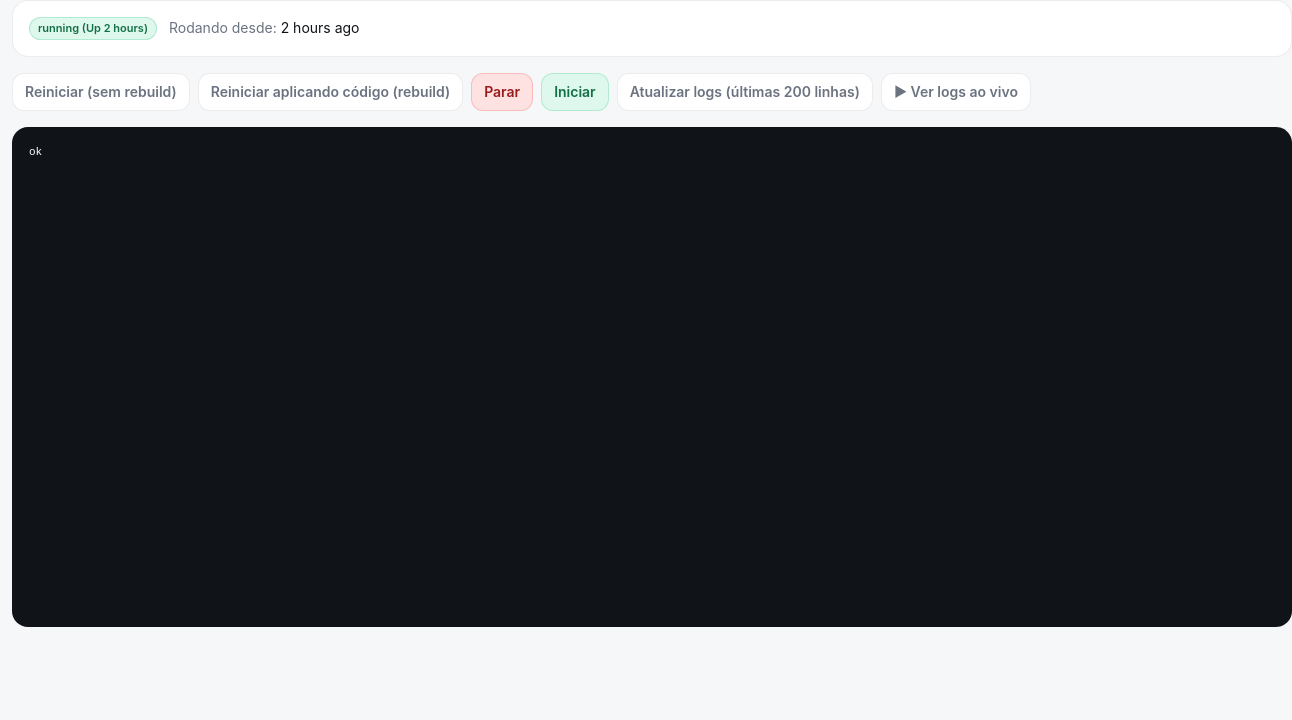
BotControlPanel › confirma o reinício com sucesso e envia o token
This screenshot has width=1292, height=720.
Expected: the text "running (Up 2 hours)" is shown, [29,17,157,40]
Click the button "Reiniciar (sem rebuild)" at (101, 92), box [12,72,190,110]
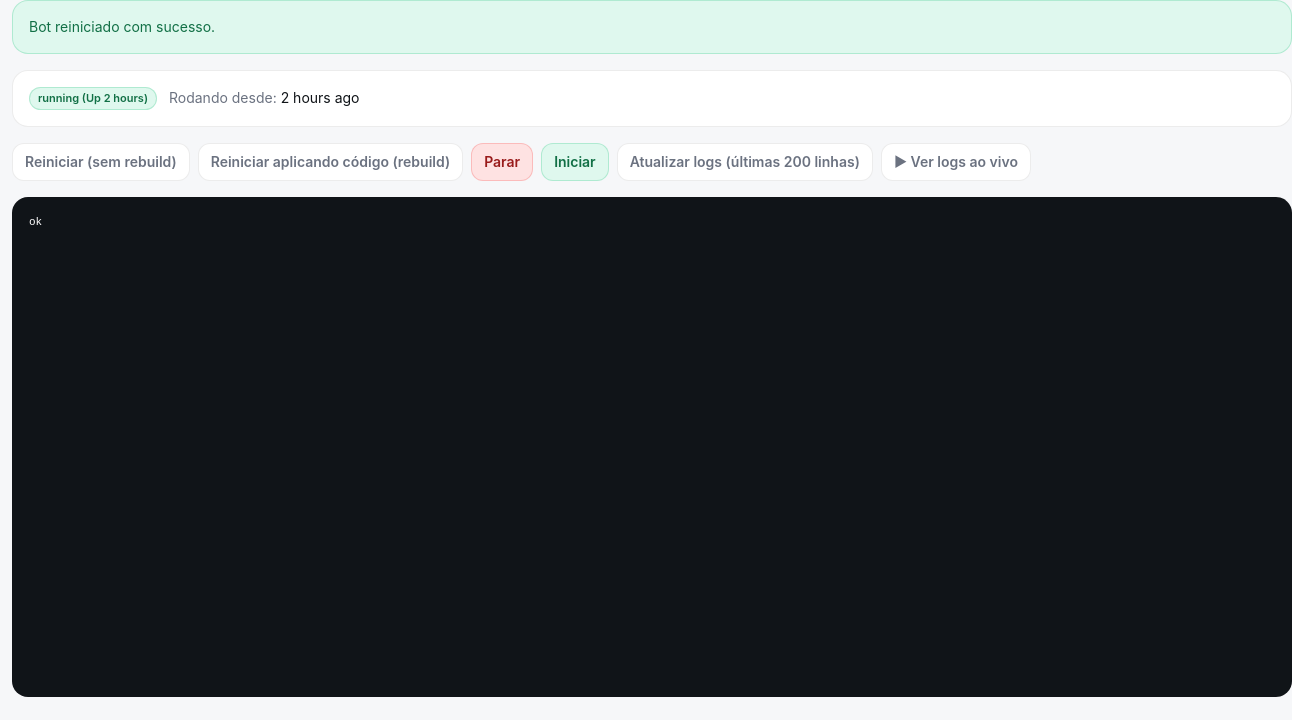
Result: the message shows "reiniciado com sucesso" at [29,18,215,35]
